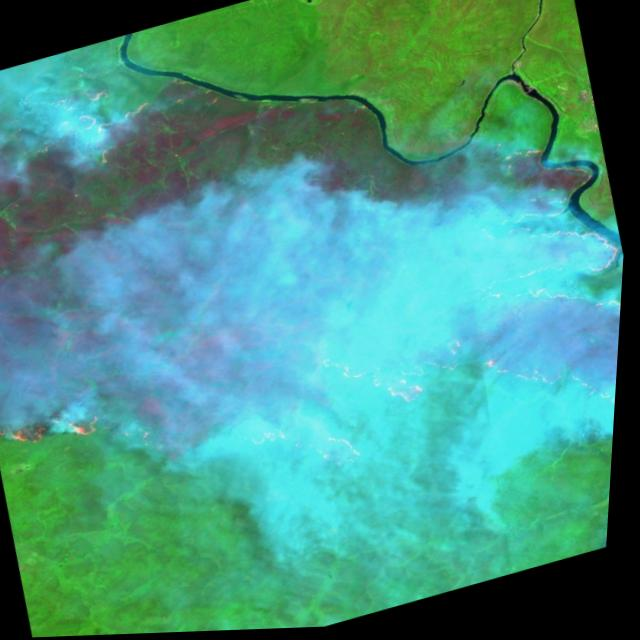fire: (0, 357, 178, 492)
